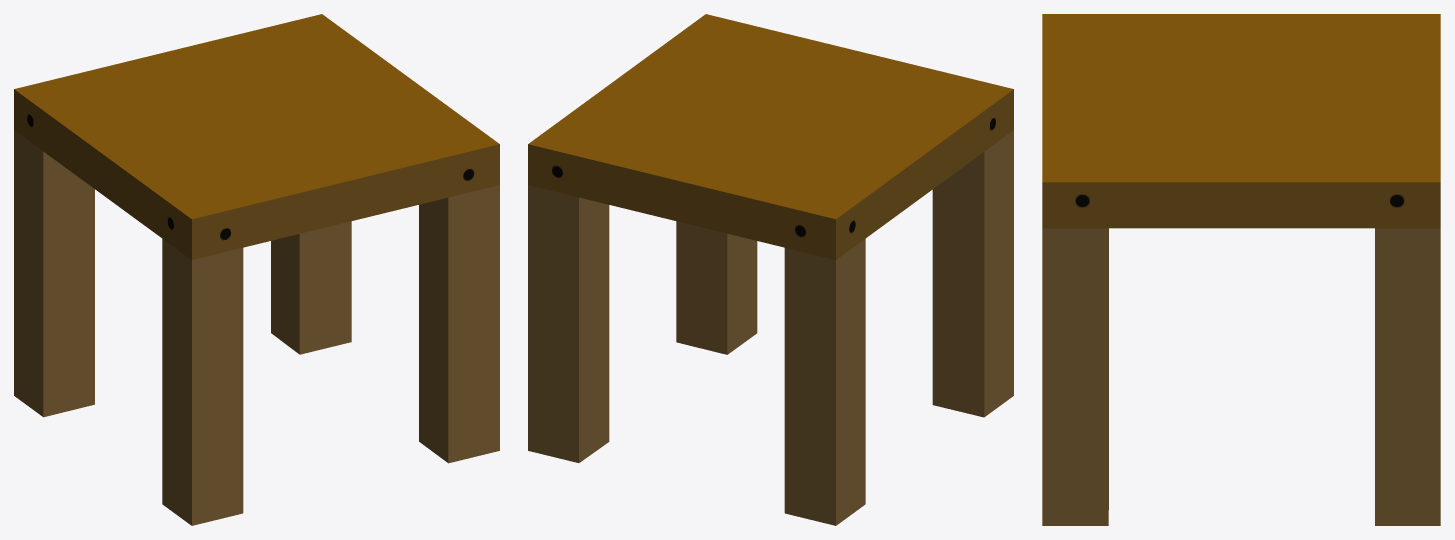
File: hs_table.fbx
3 renders of one model, left to right at view 1: azimuth 30°, elevation 25°; view 2: azimuth 150°, elevation 25°; view 3: azimuth 270°, elevation 25°, orthographic. The views are drawn at different scales.
Parts seen in each view (by area): view 1: table; view 2: table; view 3: table.
Boxes of the visible parts, x1,y1,x2,y2 form: table: [14, 14, 499, 525]; table: [528, 14, 1013, 525]; table: [1042, 14, 1440, 525].
Bounding box in the file's own units: 24 × 22.83 × 24.
